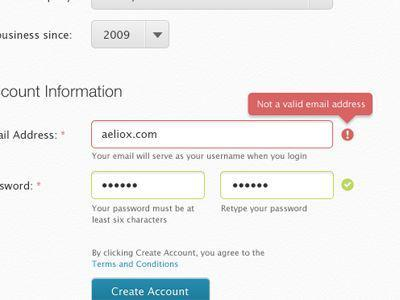button: (94, 280, 211, 300)
dropdown: (92, 21, 171, 49)
input: (93, 121, 334, 149), (93, 171, 207, 200), (221, 172, 335, 199)
label: (1, 82, 130, 104), (1, 125, 72, 144), (1, 179, 56, 197)
